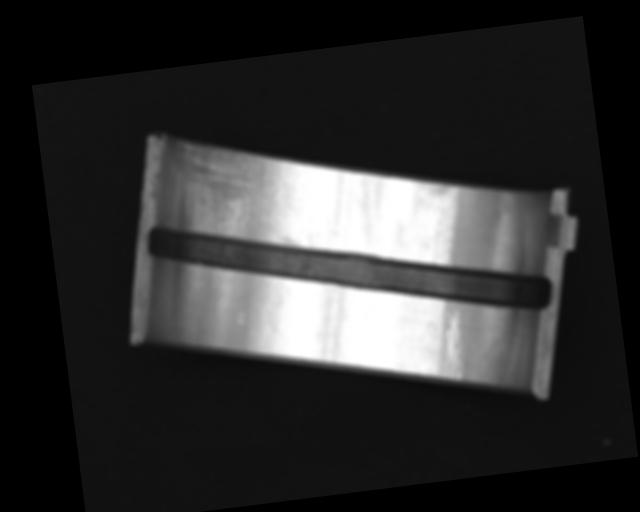bruise: (236, 311, 247, 325)
gap: (145, 177, 556, 357)
nick: (441, 306, 469, 384), (427, 220, 448, 266)
scratch: (163, 125, 304, 263)
